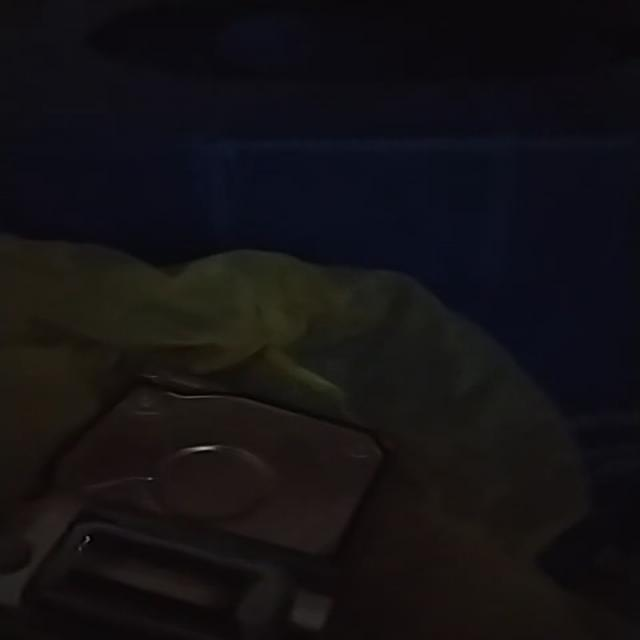bin: (2, 0, 640, 621)
metal: (3, 383, 384, 640)
